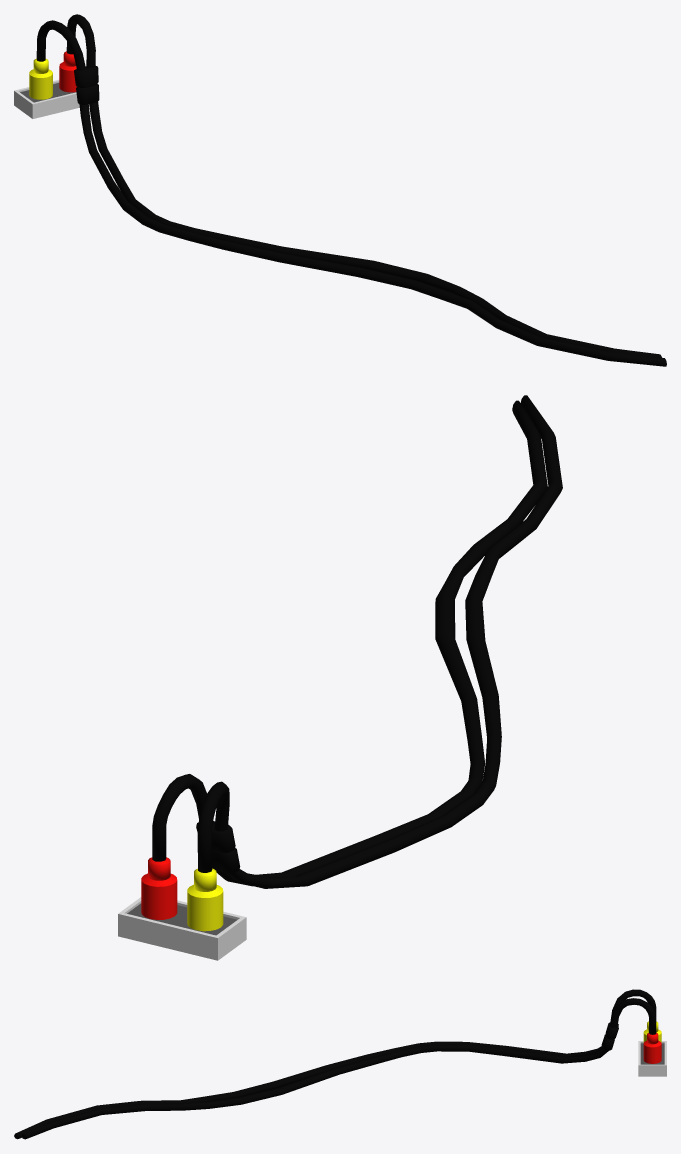
File: cable.fbx
3 renders of one model, top to bottom at view 1: azimuth 30°, elevation 25°; view 2: azimuth 150°, elevation 25°; view 3: azimuth 270°, elevation 25°, orthographic. The views are drawn at different scales.
Visible parts, largest first — view 1: Cable_Cube.001; view 2: Cable_Cube.001; view 3: Cable_Cube.001.
Boxes of the visible parts, x1,y1,x2,y2 form: Cable_Cube.001: [14, 14, 666, 366]; Cable_Cube.001: [118, 395, 562, 960]; Cable_Cube.001: [14, 989, 666, 1139].
Size of the model in its own units: 0.235 by 0.088 by 0.6989.
